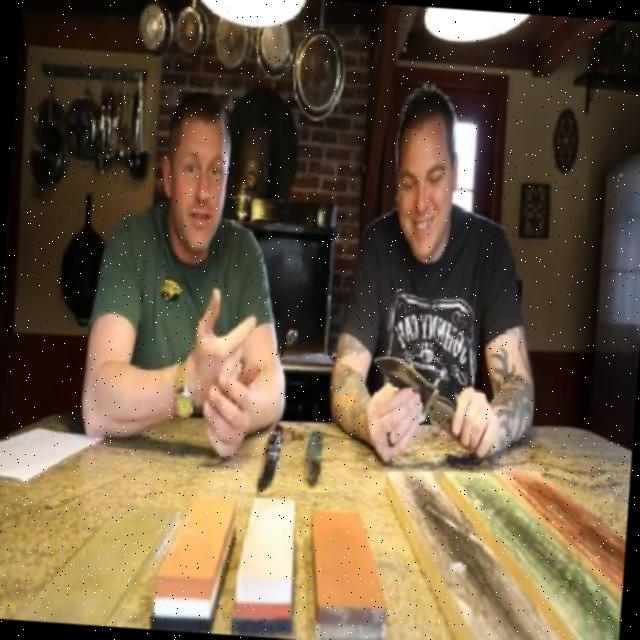Knife: (348, 342, 478, 446), (258, 414, 288, 494), (294, 424, 327, 492)
